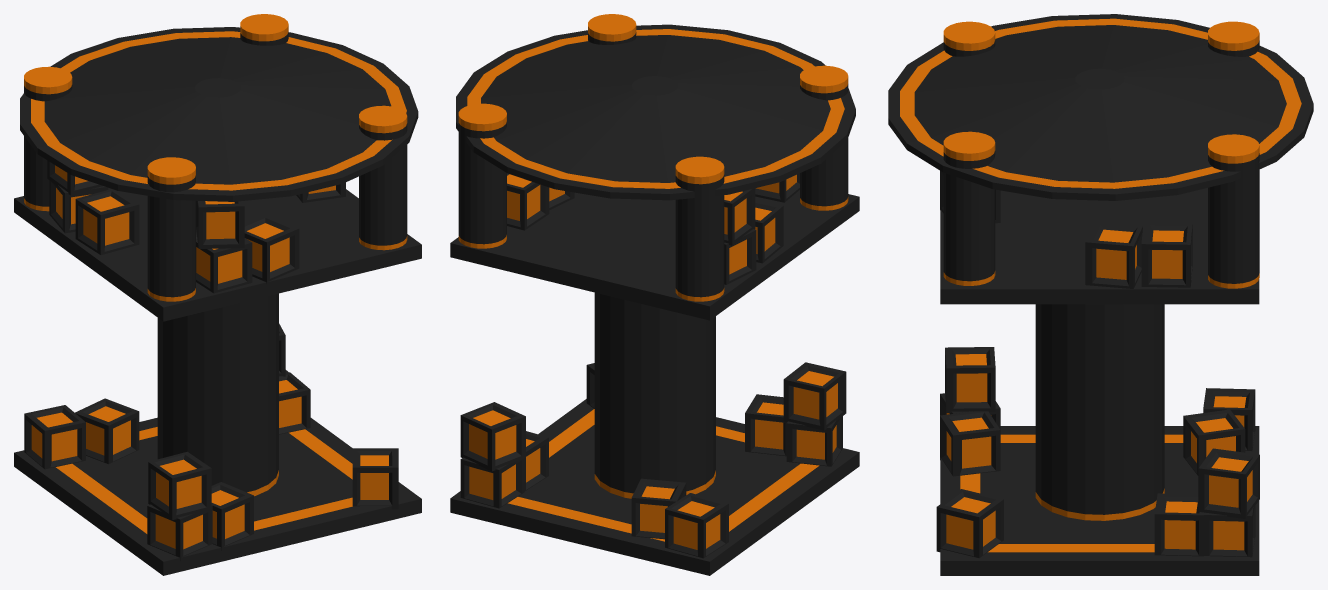
The model's file is tower1.fbx.
3 renders of one model, left to right at view 1: azimuth 30°, elevation 25°; view 2: azimuth 150°, elevation 25°; view 3: azimuth 270°, elevation 25°, orthographic. The views are drawn at different scales.
Parts seen in each view (by area): view 1: Cylinder.005, Cube, Cylinder, Cube.001, Cylinder.004, Cylinder.003, Cube.011, Cube.003, Cube.016, Cube.017, Cylinder.001, Cube.009 (+10 smaller); view 2: Cylinder.005, Cube, Cylinder, Cube.001, Cylinder.001, Cylinder.002, Cylinder.004, Cube.014, Cube.011, Cube.016, Cube.015, Cube.017 (+9 smaller); view 3: Cylinder.005, Cylinder, Cube, Cube.001, Cylinder.002, Cylinder.003, Cube.018, Cube.014, Cube.012, Cube.005, Cube.011, Cube.006 (+6 smaller).
Boxes of the visible parts, x1=… form: Cylinder.005: x1=20, y1=27, x2=418, y2=201; Cube: x1=14, y1=417, x2=421, y2=575; Cylinder: x1=157, y1=293, x2=278, y2=496; Cube.001: x1=14, y1=188, x2=421, y2=321; Cylinder.004: x1=147, y1=157, x2=195, y2=301; Cylinder.003: x1=359, y1=105, x2=407, y2=250; Cube.011: x1=148, y1=451, x2=211, y2=519; Cube.003: x1=75, y1=189, x2=139, y2=254; Cube.016: x1=24, y1=405, x2=85, y2=469; Cube.017: x1=75, y1=398, x2=139, y2=464; Cylinder.001: x1=24, y1=66, x2=72, y2=211; Cube.009: x1=244, y1=215, x2=299, y2=283; Cylinder.005: x1=456, y1=24, x2=855, y2=200; Cube: x1=450, y1=399, x2=859, y2=575; Cylinder: x1=594, y1=292, x2=715, y2=498; Cube.001: x1=450, y1=190, x2=859, y2=320; Cylinder.001: x1=675, y1=156, x2=724, y2=301; Cylinder.002: x1=458, y1=103, x2=506, y2=248; Cylinder.004: x1=800, y1=65, x2=848, y2=210; Cube.014: x1=460, y1=402, x2=525, y2=471; Cube.011: x1=783, y1=362, x2=846, y2=430; Cube.016: x1=665, y1=493, x2=728, y2=558; Cube.015: x1=460, y1=457, x2=524, y2=508; Cube.017: x1=631, y1=478, x2=686, y2=539; Cylinder.005: x1=888, y1=14, x2=1313, y2=200; Cylinder: x1=1035, y1=304, x2=1164, y2=520; Cube: x1=940, y1=426, x2=1259, y2=575; Cube.001: x1=940, y1=188, x2=1259, y2=304; Cylinder.002: x1=1208, y1=134, x2=1259, y2=288; Cylinder.003: x1=943, y1=131, x2=995, y2=285; Cube.018: x1=936, y1=489, x2=1003, y2=558; Cube.014: x1=1198, y1=448, x2=1259, y2=518; Cube.012: x1=940, y1=411, x2=1000, y2=476; Cube.005: x1=1085, y1=222, x2=1142, y2=288; Cube.011: x1=945, y1=347, x2=995, y2=412; Cube.006: x1=1141, y1=223, x2=1192, y2=287.
Size of the model in its own units: 509 by 565 by 507.
